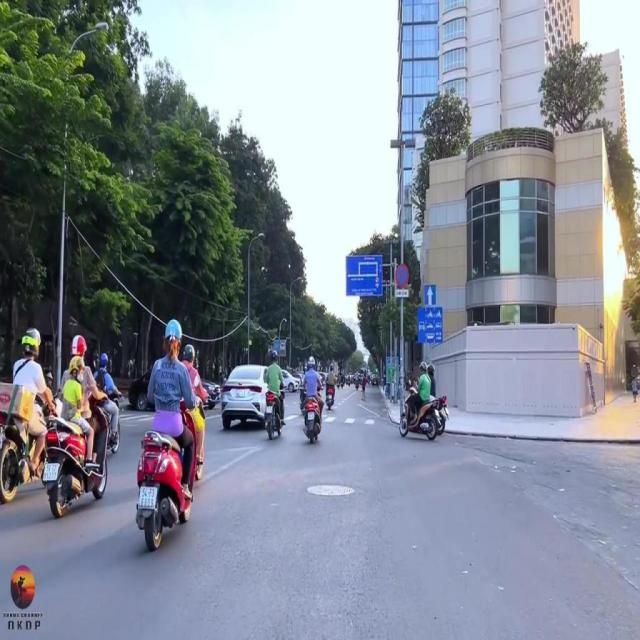cam_dung_xe_va_do_xe: (395, 264, 409, 288)
duong_mot_chieu: (424, 284, 437, 304)
khac: (346, 256, 383, 296), (395, 290, 409, 298)
lan_duong_cho_tung_xe_theo_vach_ke_duong: (418, 307, 443, 344)
